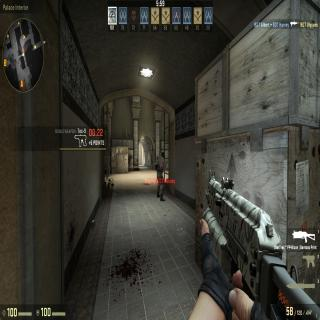CT-Body: (156, 150, 166, 202)
CT-Head: (161, 151, 165, 160)
